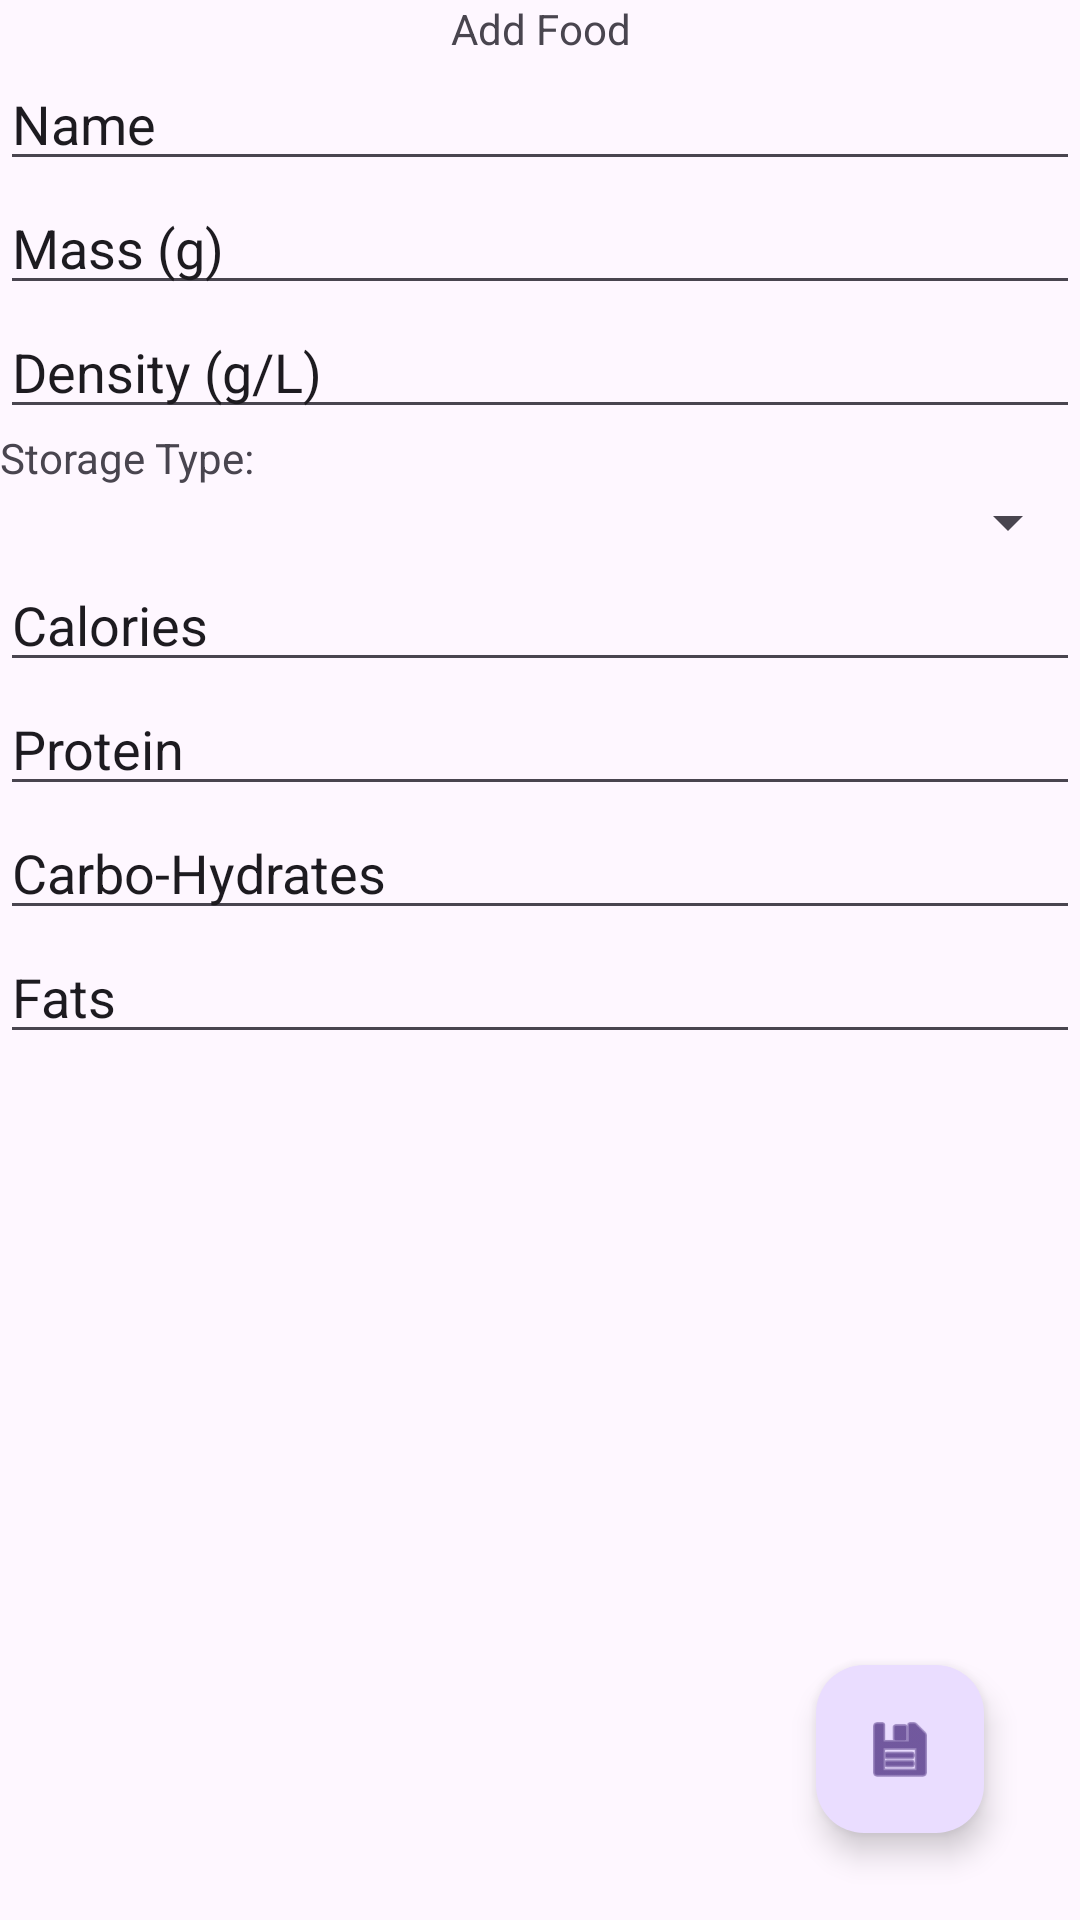

Locate icon controls on the screen. Image size 1080w x 1920h, boxes as detection(x1, y1, x2, y2).
save: detection(816, 1665, 984, 1833)
